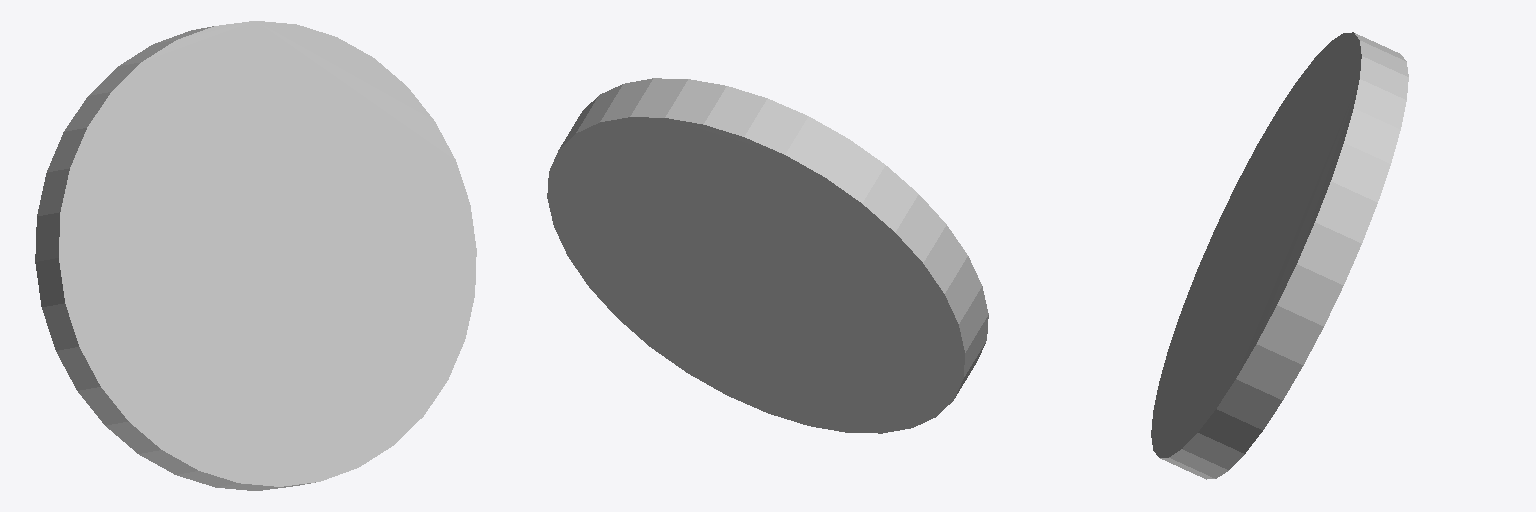
File: rc3_icon.obj
3 views of the same model, side by side, from view 1: azimuth 30°, elevation 25°; view 2: azimuth 150°, elevation 25°; view 3: azimuth 270°, elevation 25° (orthographic).
Parts seen in each view (by area): view 1: Cube.022; view 2: Cube.022; view 3: Cube.022.
Boxes of the visible parts, x1=… form: Cube.022: x1=35, y1=21, x2=476, y2=490; Cube.022: x1=547, y1=78, x2=988, y2=433; Cube.022: x1=1151, y1=32, x2=1408, y2=479.
Bounding box in the file's own units: 0.006 × 0.0057 × 0.0033.